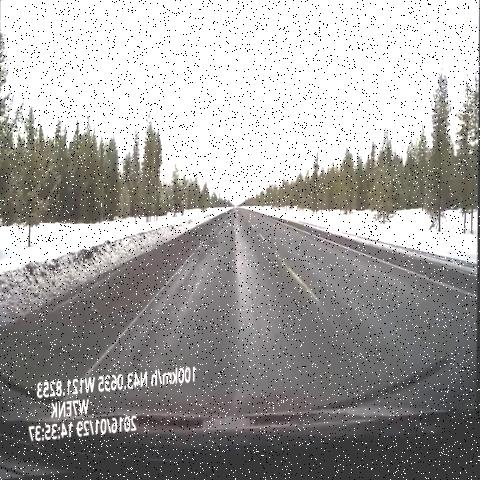pothole: (216, 214, 236, 238), (204, 240, 221, 263), (231, 213, 247, 228)
